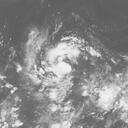cyclone: (29, 31, 76, 87)
